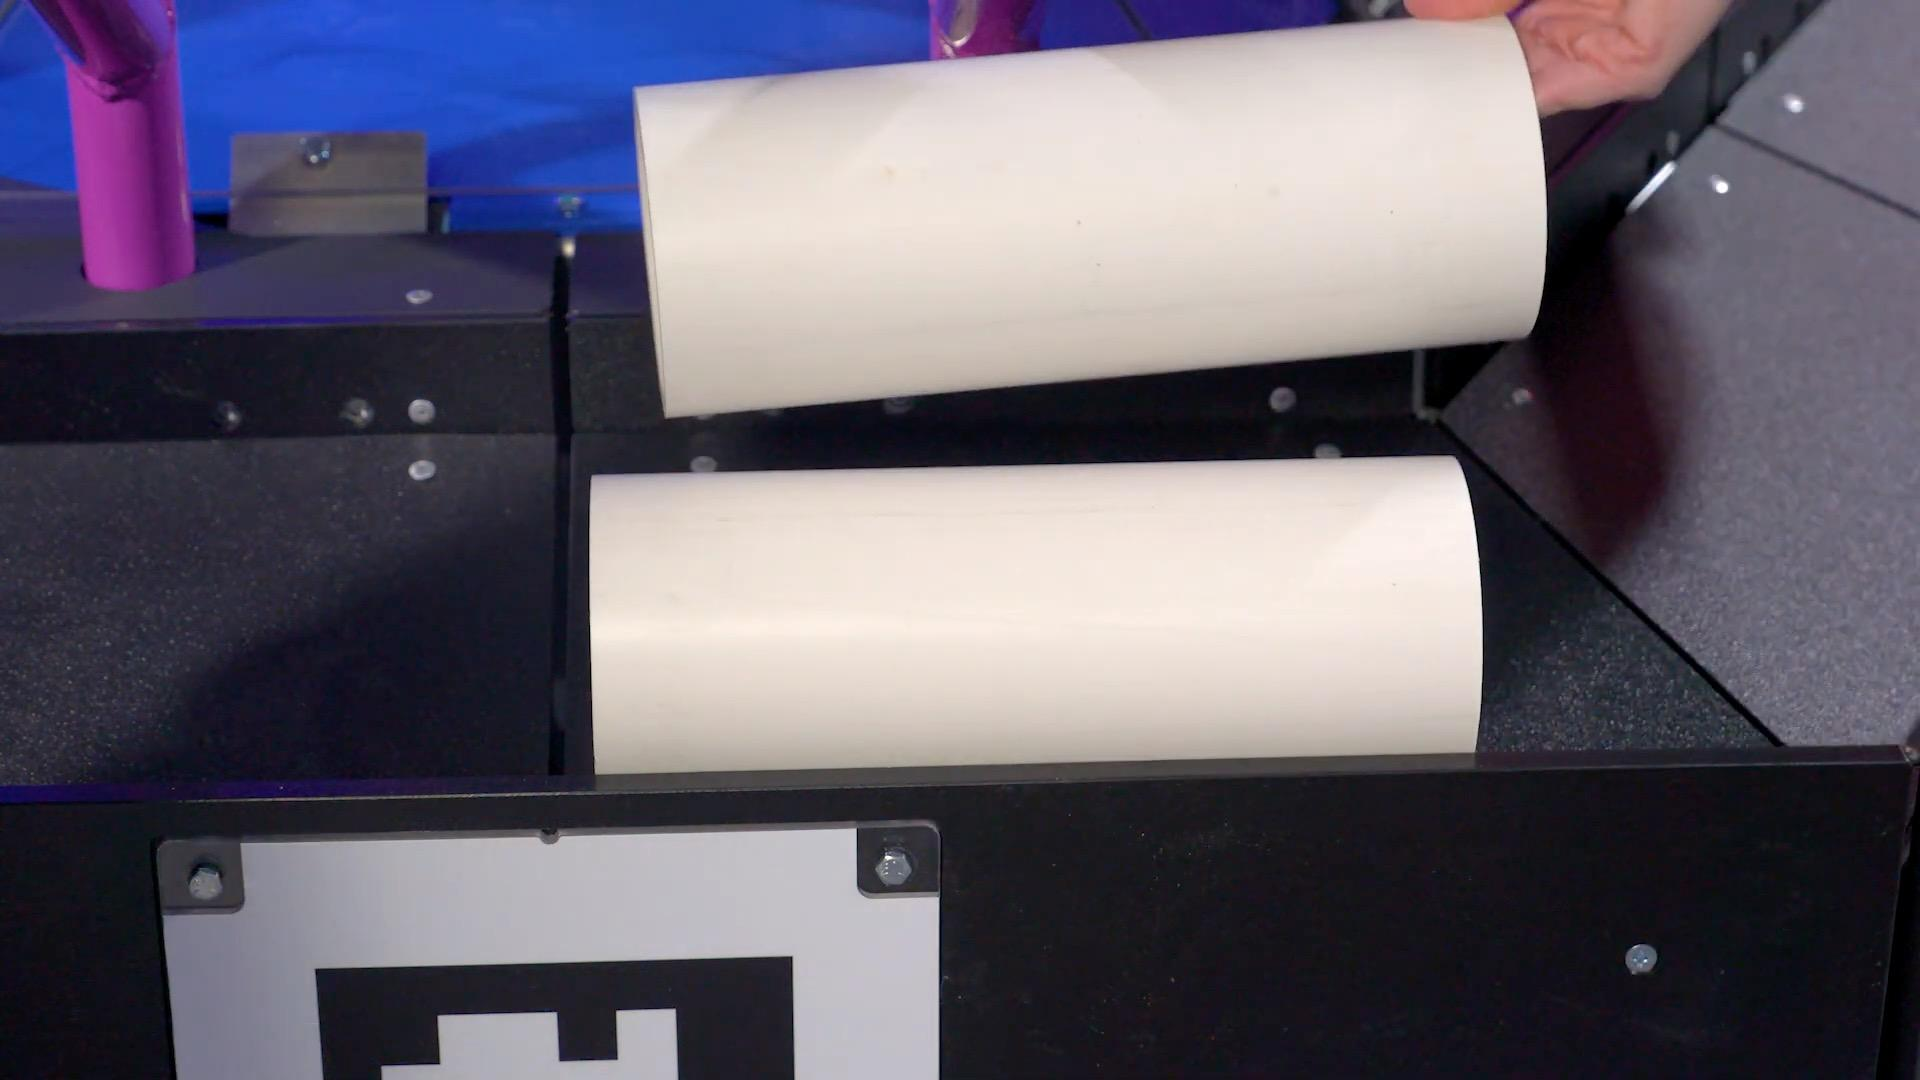CORAL: (630, 12, 1549, 421), (584, 452, 1485, 775)
